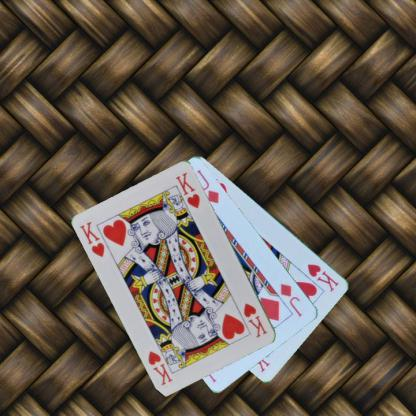Jd: (278, 281, 303, 318)
Kh: (305, 261, 340, 294), (78, 219, 106, 259), (241, 300, 269, 339)
